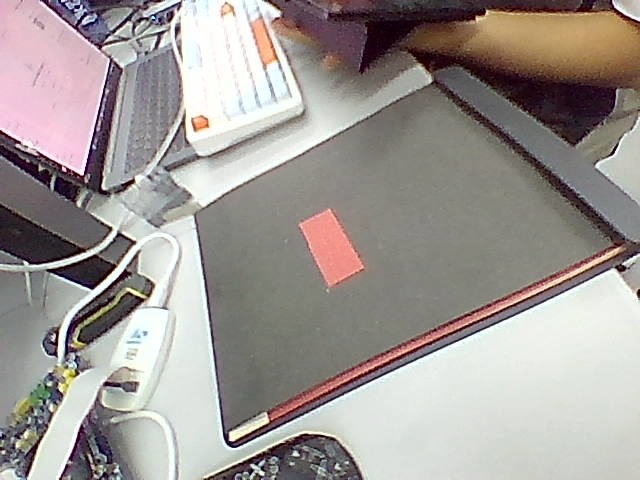card: (300, 210, 363, 287)
